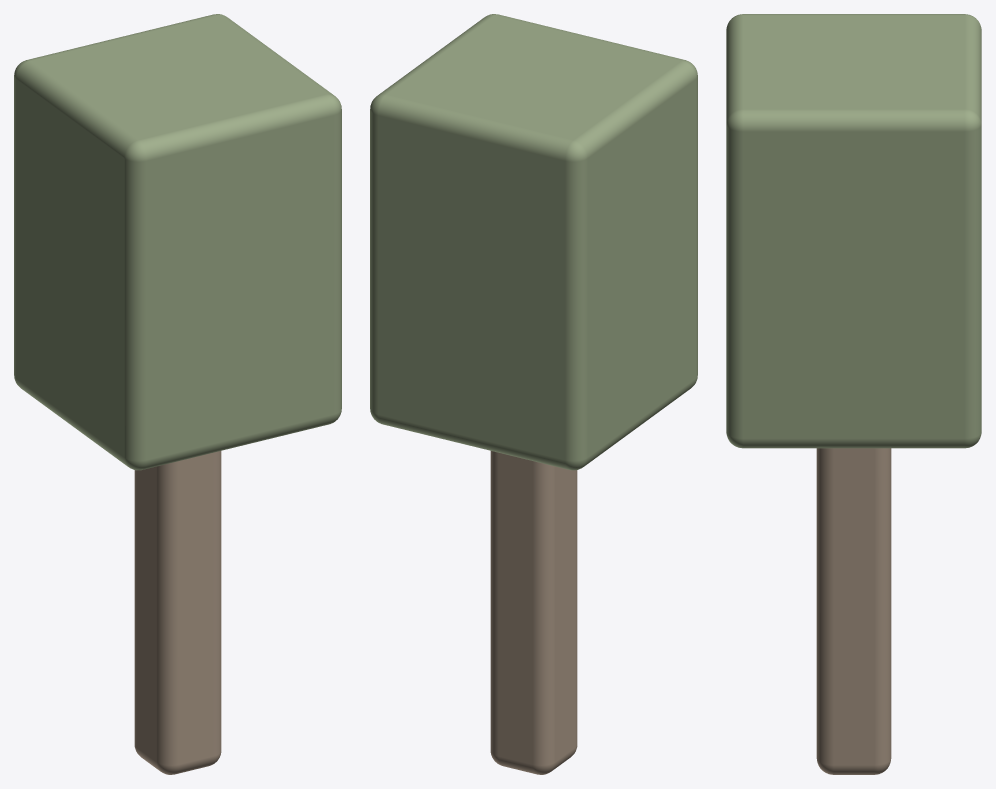
File: tree.gltf
3 renders of one model, left to right at view 1: azimuth 30°, elevation 25°; view 2: azimuth 150°, elevation 25°; view 3: azimuth 270°, elevation 25°, orthographic. The views are drawn at different scales.
Parts seen in each view (by area): view 1: Cube 2, Cube; view 2: Cube 2, Cube; view 3: Cube 2, Cube.
Part boxes in pixels (<box>): Cube 2: <box>14,14,341,470</box>; Cube: <box>134,451,221,774</box>; Cube 2: <box>370,14,697,470</box>; Cube: <box>490,451,577,774</box>; Cube 2: <box>726,14,981,448</box>; Cube: <box>816,448,891,774</box>.
Size of the model in its own units: 1.2 by 3.64 by 1.2.
